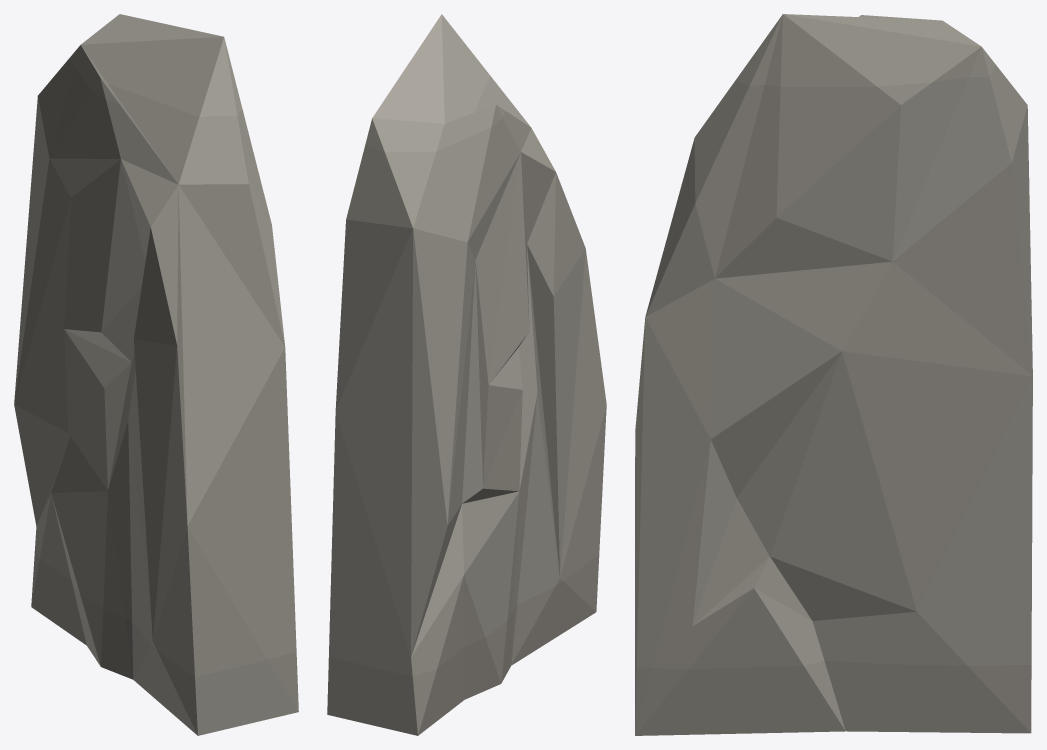
The model's file is YN_RockPlate15.fbx.
The picture shows the model from 3 angles, left to right: view 1: azimuth 30°, elevation 25°; view 2: azimuth 150°, elevation 25°; view 3: azimuth 270°, elevation 25°; orthographic projection. The views are drawn at different scales.
Parts seen in each view (by area): view 1: RockPlate15; view 2: RockPlate15; view 3: RockPlate15.
Boxes of the visible parts, x1=… form: RockPlate15: x1=14, y1=14, x2=298, y2=735; RockPlate15: x1=327, y1=14, x2=606, y2=735; RockPlate15: x1=635, y1=14, x2=1032, y2=735.
Bounding box in the file's own units: 0.83 × 4.06 × 2.04.
